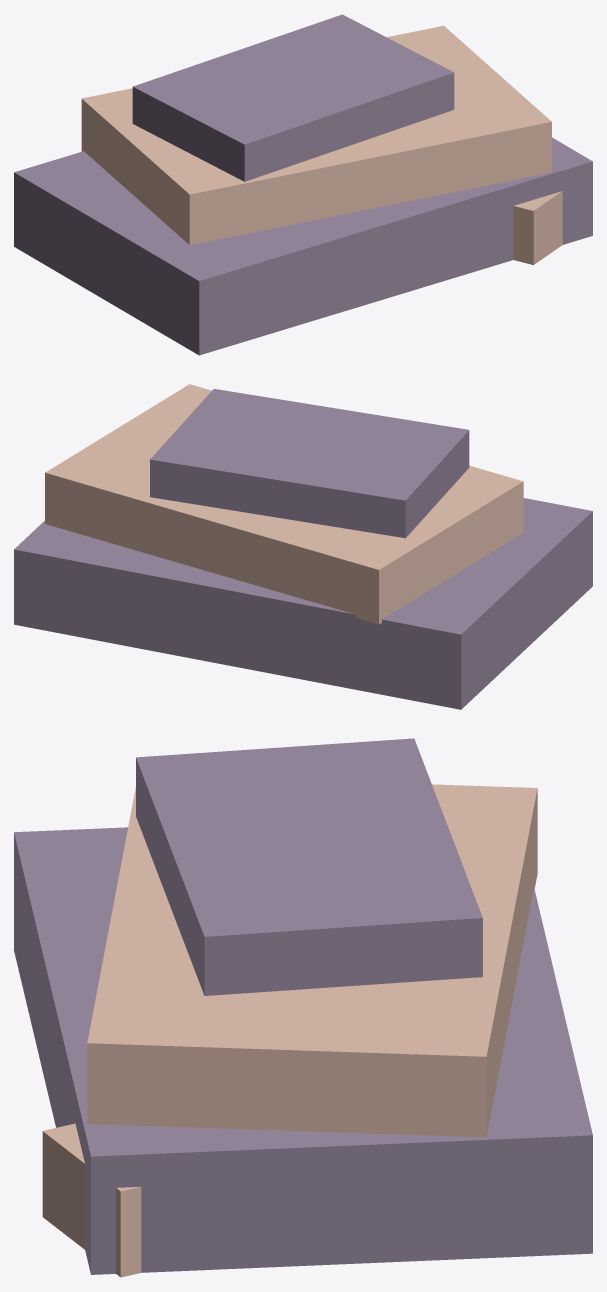
The model's file is mars-outcrop.glb.
3 views of the same model, one above another, from view 1: azimuth 30°, elevation 25°; view 2: azimuth 150°, elevation 25°; view 3: azimuth 270°, elevation 25° (orthographic). The views are drawn at different scales.
Parts seen in each view (by area): view 1: MarsOutcrop; view 2: MarsOutcrop; view 3: MarsOutcrop.
Boxes of the visible parts, x1,y1,x2,y2 form: MarsOutcrop: [14, 14, 592, 355]; MarsOutcrop: [14, 384, 592, 709]; MarsOutcrop: [14, 738, 592, 1277].
Bounding box in the file's own units: 2.78 × 0.96 × 1.95.
